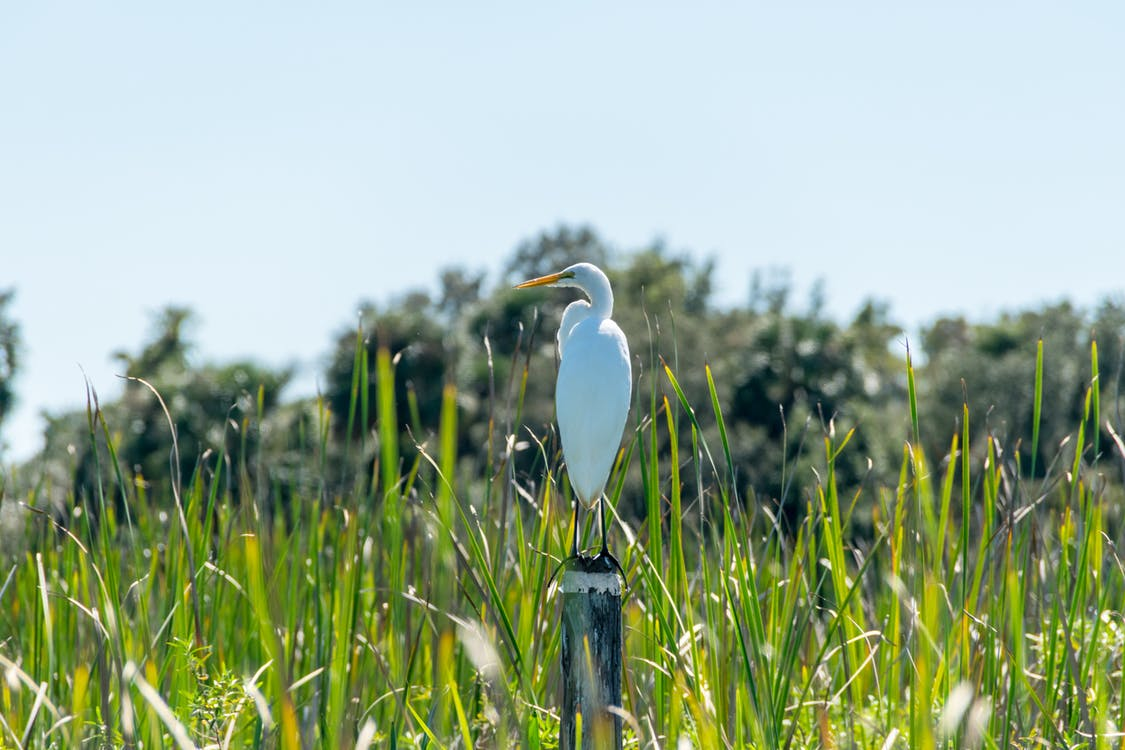VTP:Vertical Tail Plane: (488, 245, 674, 601)
